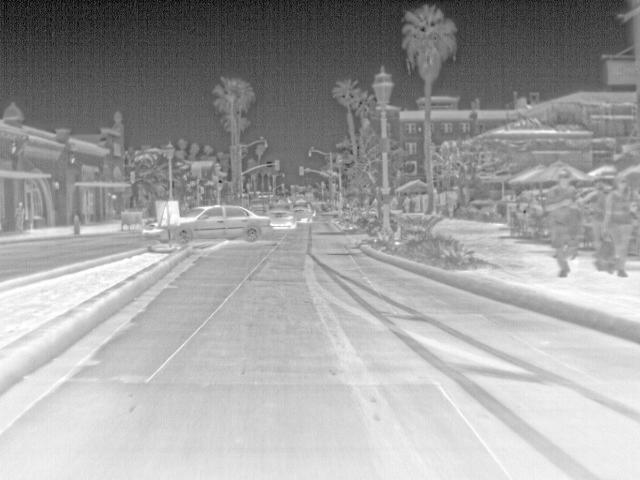car: (175, 204, 271, 248), (267, 206, 298, 231), (145, 221, 169, 243), (296, 204, 314, 222)
person: (540, 168, 582, 276), (604, 174, 637, 275), (585, 179, 612, 268), (12, 198, 27, 232)
